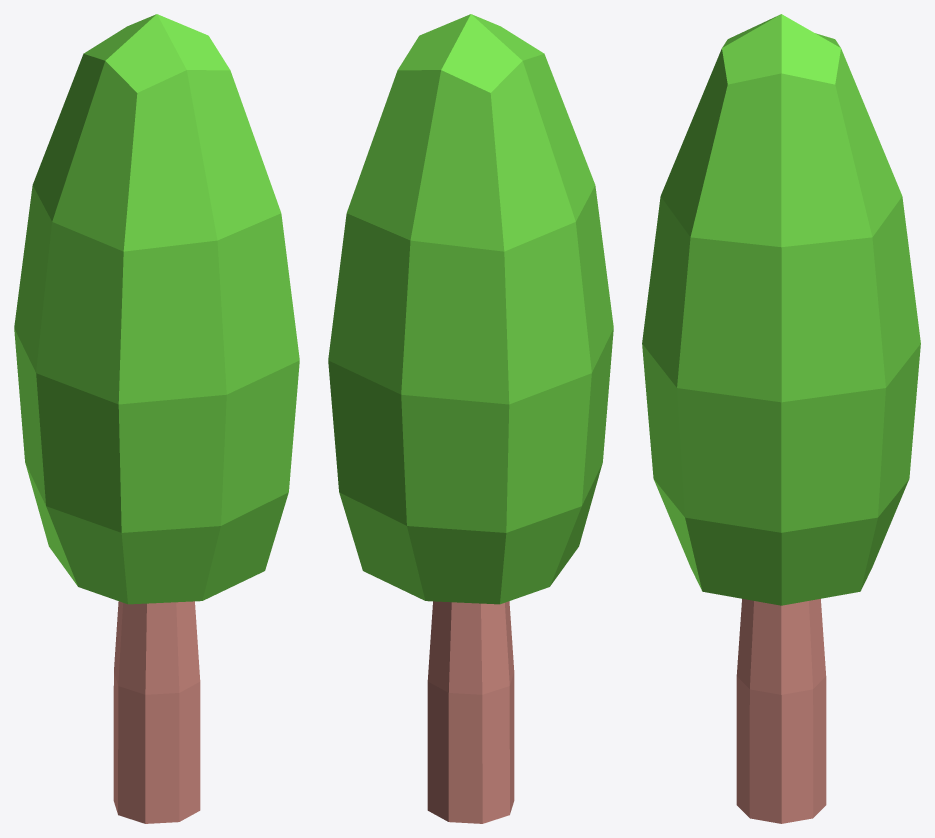
Rendered from Tree4.fbx.
3 renders of one model, left to right at view 1: azimuth 30°, elevation 25°; view 2: azimuth 150°, elevation 25°; view 3: azimuth 270°, elevation 25°, orthographic.
Parts seen in each view (by area): view 1: Cube; view 2: Cube; view 3: Cube.
Boxes of the visible parts, left/top/right/bottom form: Cube: left=14, top=14, right=299, bottom=823; Cube: left=328, top=14, right=613, bottom=823; Cube: left=642, top=14, right=920, bottom=823.
Bounding box in the file's own units: 2.55 × 7.98 × 2.55.
